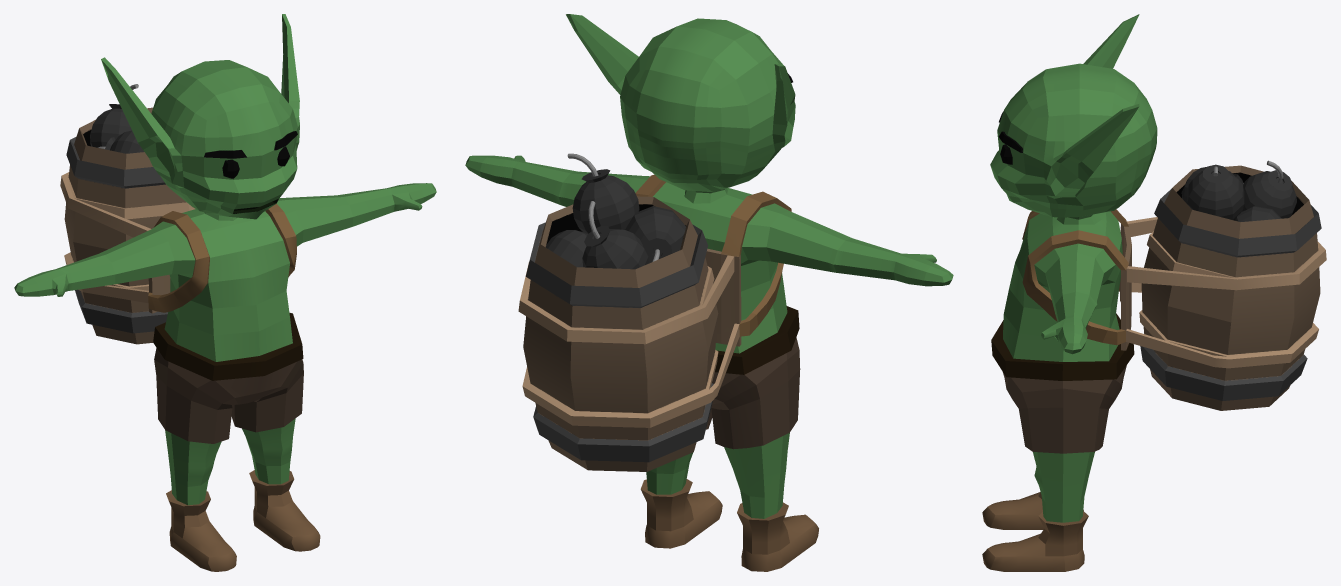
3 views of the same model, side by side, from view 1: azimuth 30°, elevation 25°; view 2: azimuth 150°, elevation 25°; view 3: azimuth 270°, elevation 25° (orthographic). The views are drawn at different scales.
Parts seen in each view (by area): view 1: BodyAndBarrel, Bomb3, Bomb4; view 2: BodyAndBarrel, Bomb1, Bomb3, Bomb4, Bomb2; view 3: BodyAndBarrel, Bomb1, Bomb3, Bomb2.
Part boxes in pixels (box(x1,y1,x2,y2)): BodyAndBarrel: box(14, 14, 436, 571); Bomb3: box(90, 84, 138, 147); Bomb4: box(98, 130, 144, 153); BodyAndBarrel: box(465, 14, 953, 571); Bomb1: box(567, 153, 639, 233); Bomb3: box(582, 201, 648, 269); Bomb4: box(625, 206, 685, 263); Bomb2: box(545, 230, 587, 267); BodyAndBarrel: box(982, 14, 1326, 571); Bomb1: box(1187, 164, 1244, 220); Bomb3: box(1242, 160, 1296, 218); Bomb2: box(1234, 206, 1281, 221).
Bounding box in the file's own units: 1.31 × 1.4 × 0.9048.
Materials: 3 (3 with a texture image).
